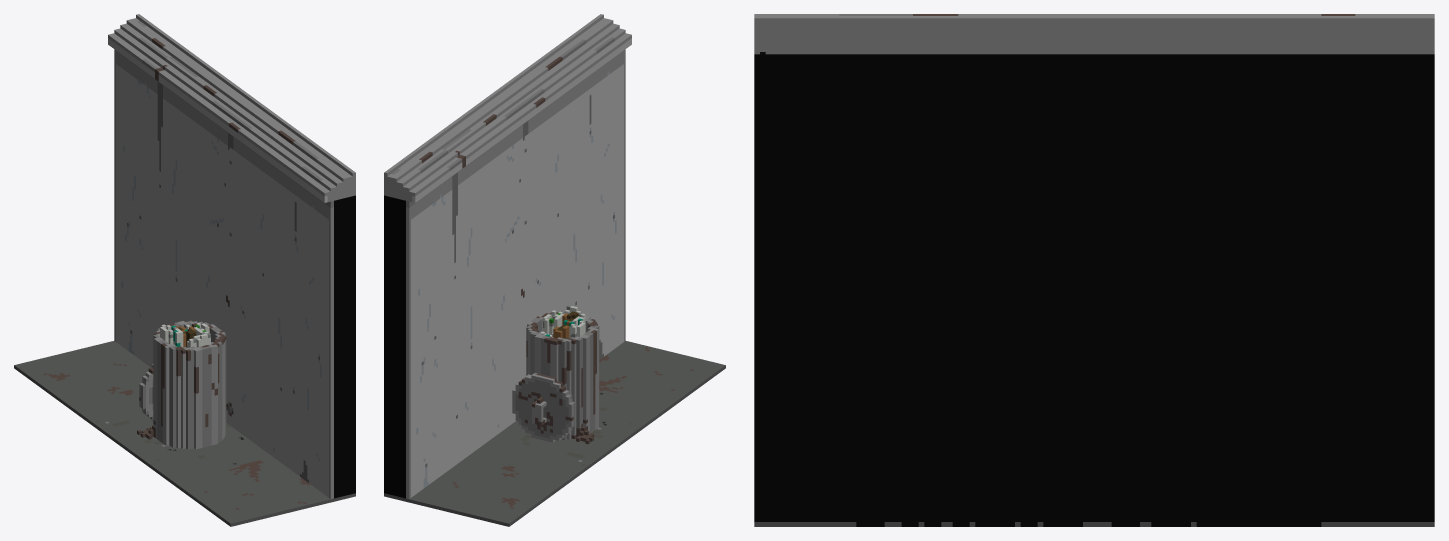
The model's file is Parede_Portao_04.obj.
3 renders of one model, left to right at view 1: azimuth 30°, elevation 25°; view 2: azimuth 150°, elevation 25°; view 3: azimuth 270°, elevation 25°, orthographic. The views are drawn at different scales.
Bounding box in the file's own units: 40 × 99 × 120.
1 material, 1 textured.
